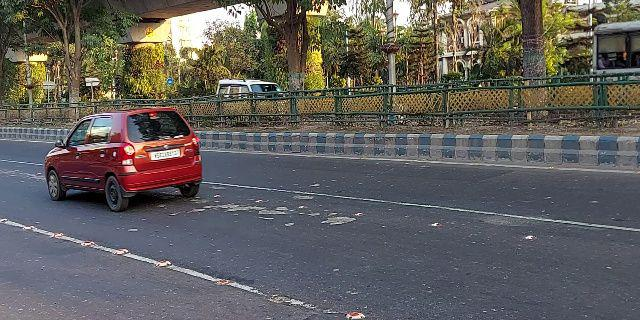Car: (40, 105, 201, 215)
